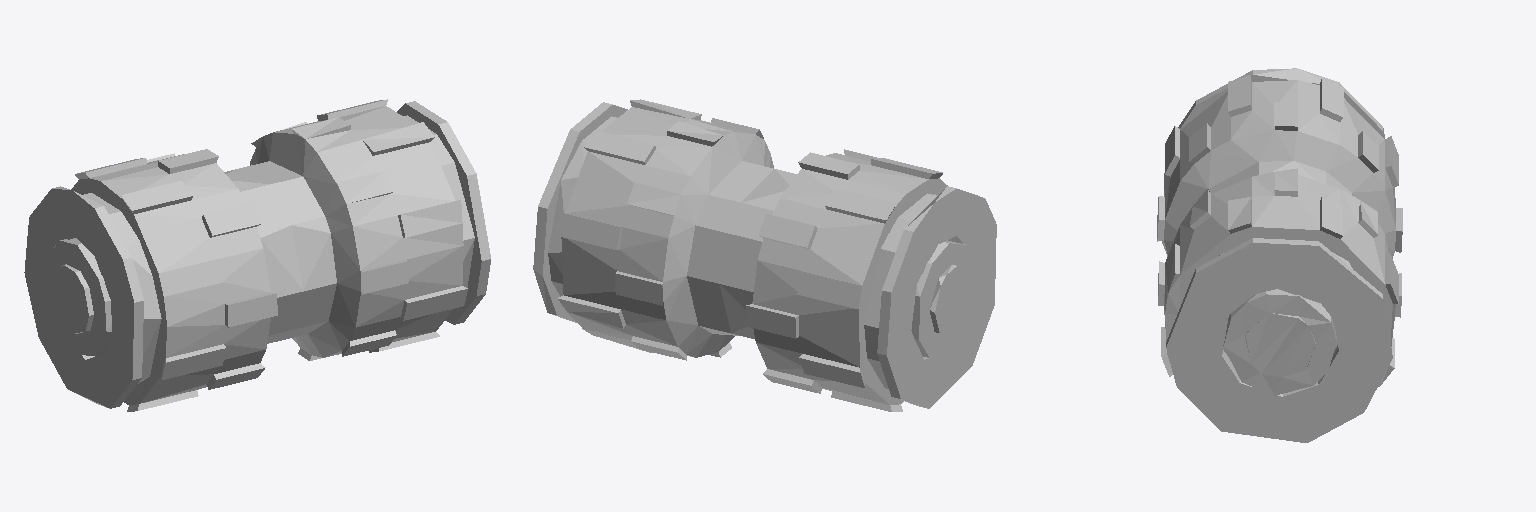
The model's file is Kola_000014.obj.
3 renders of one model, left to right at view 1: azimuth 30°, elevation 25°; view 2: azimuth 150°, elevation 25°; view 3: azimuth 270°, elevation 25°, orthographic.
Parts seen in each view (by area): view 1: Cylinder.004; view 2: Cylinder.004; view 3: Cylinder.004.
Boxes of the visible parts, <box> form: Cylinder.004: <box>24,99,490,411</box>; Cylinder.004: <box>533,99,996,411</box>; Cylinder.004: <box>1157,68,1402,442</box>.
Size of the model in its own units: 2.17 by 1.25 by 1.25.